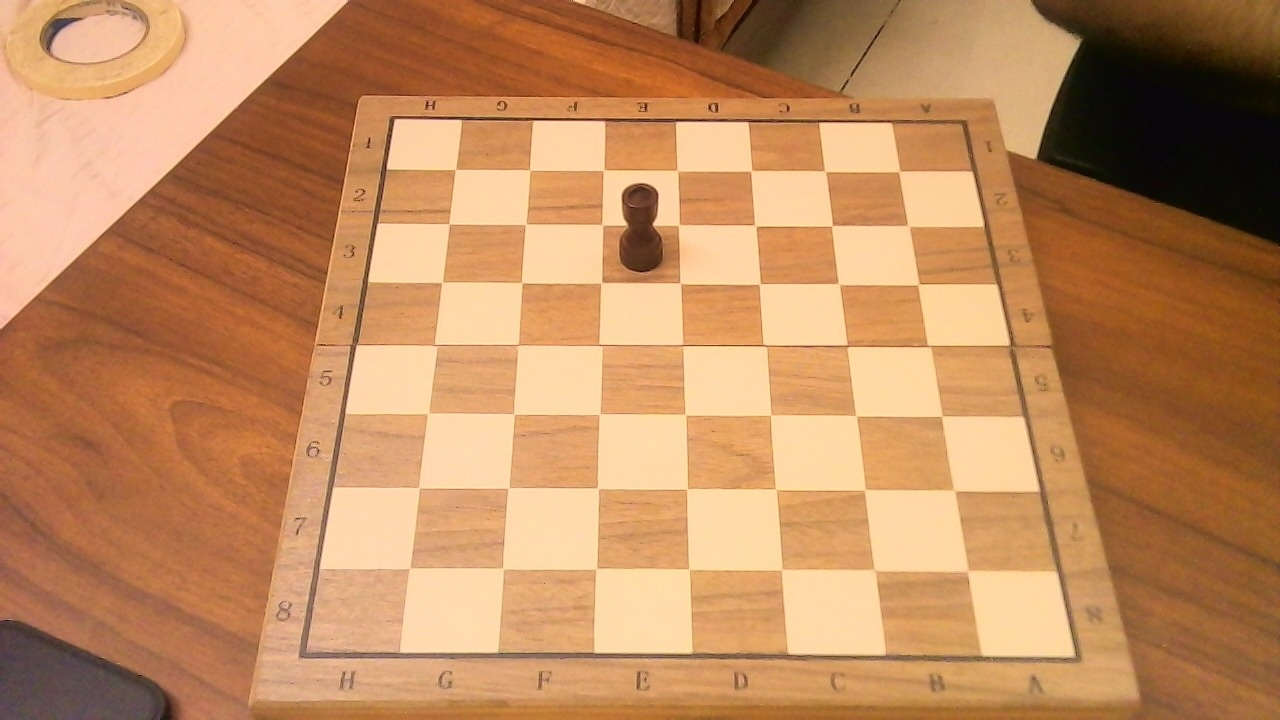r: (610, 170, 675, 274)
